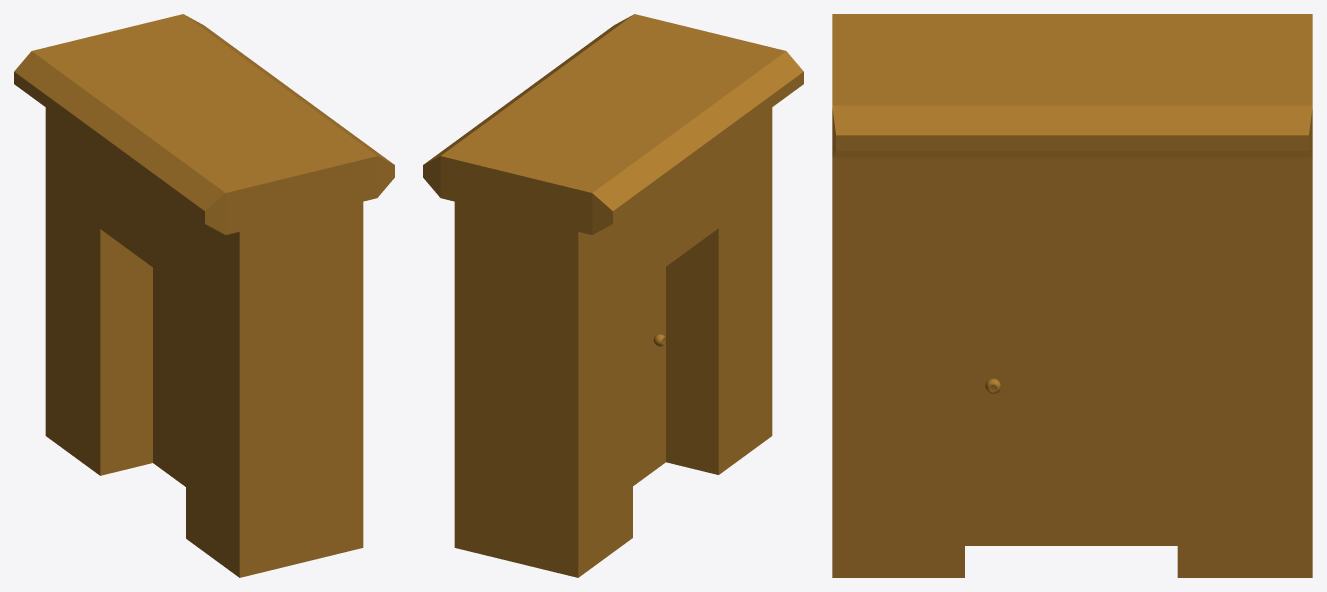
Rendered from SingleDoor.fbx.
The picture shows the model from 3 angles, left to right: view 1: azimuth 30°, elevation 25°; view 2: azimuth 150°, elevation 25°; view 3: azimuth 270°, elevation 25°; orthographic projection. The views are drawn at different scales.
Visible parts, largest first — view 1: SingleDoor; view 2: SingleDoor; view 3: SingleDoor.
Part boxes in pixels (x1,y1,x2,y2): SingleDoor: (14,14,394,577); SingleDoor: (423,14,803,577); SingleDoor: (832,14,1312,577).
Bounding box in the file's own units: 154 × 300 × 272.
